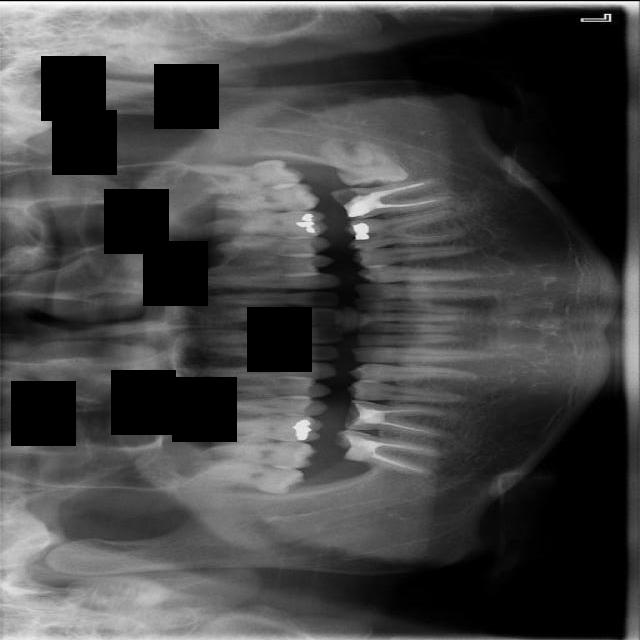3M ESPE Implant: (193, 457, 306, 496)
52: (330, 179, 384, 225), (271, 410, 324, 445), (334, 425, 382, 463), (345, 216, 398, 250), (272, 209, 329, 237), (345, 396, 387, 433)
73: (356, 431, 447, 479), (368, 171, 457, 215), (371, 400, 456, 439), (591, 34, 601, 40)
BioHorizons Implant: (194, 180, 321, 213)
BioLife Implant: (178, 159, 305, 195)
Biomet 3i Implant: (332, 133, 409, 188)
Blue Sky Bio Implant: (330, 174, 456, 222)
Caries: (198, 432, 318, 470)
Implant: (331, 425, 443, 480)
